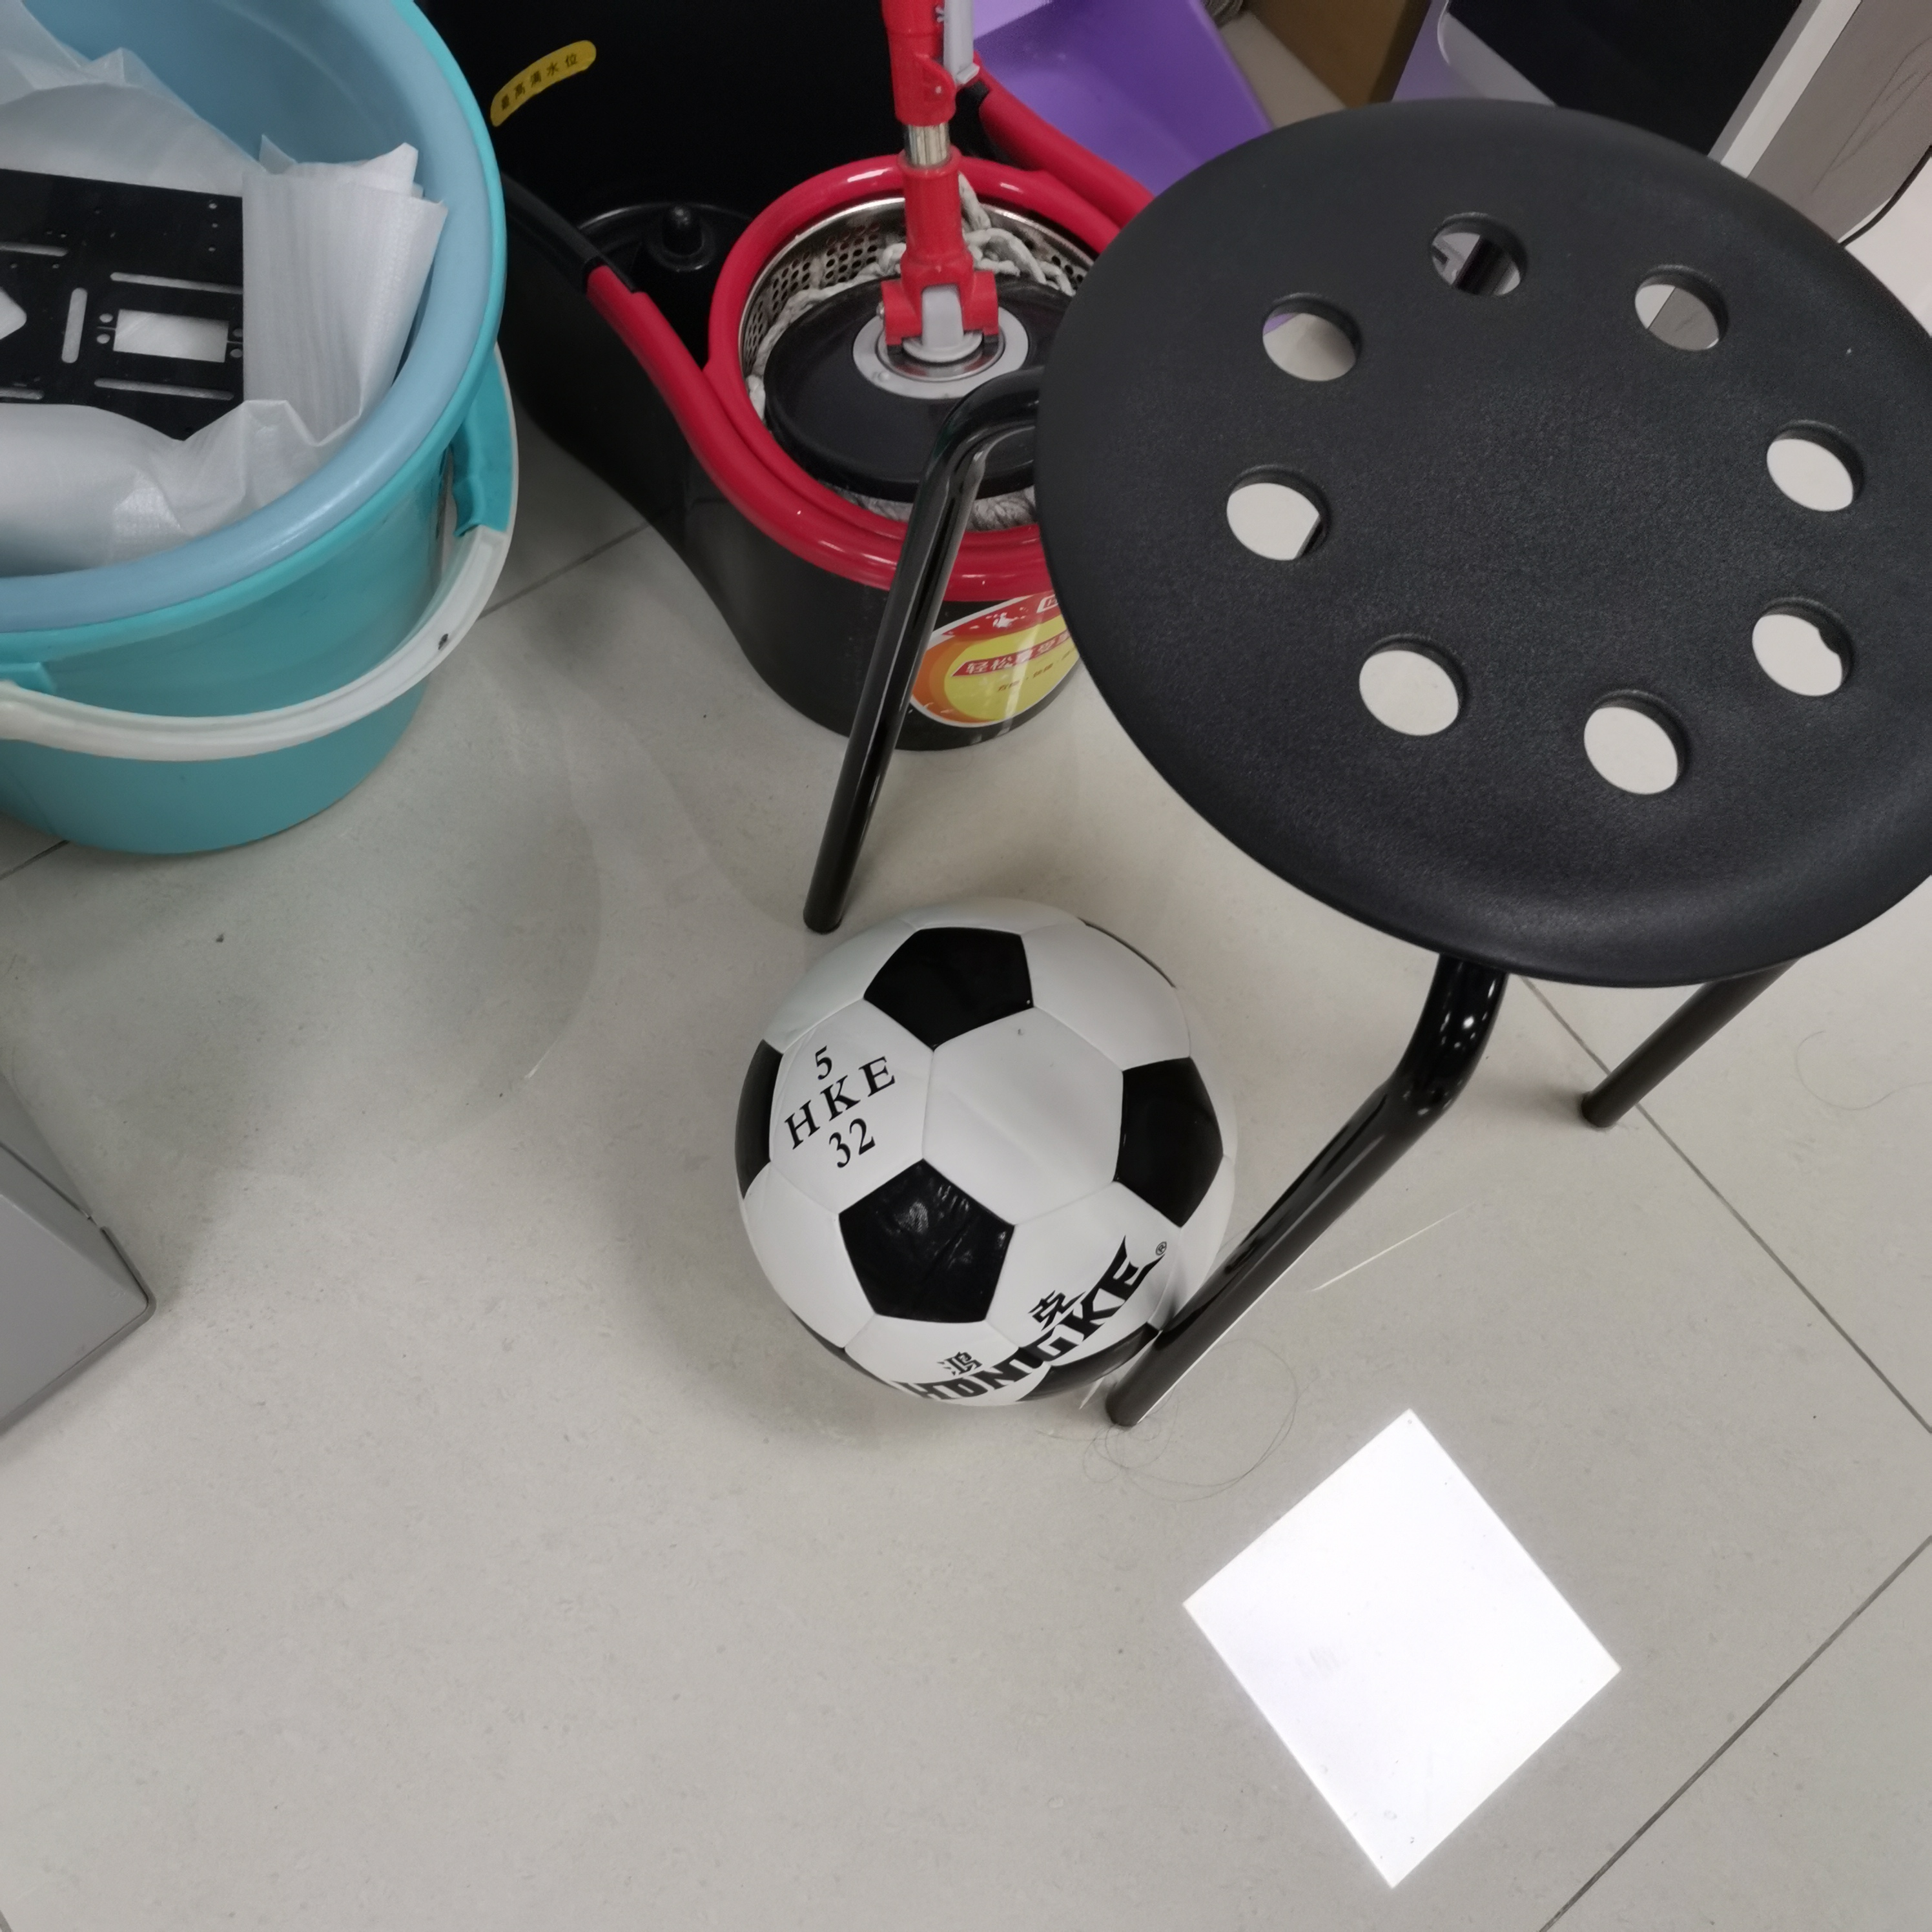football: (725, 890, 1246, 1399)
